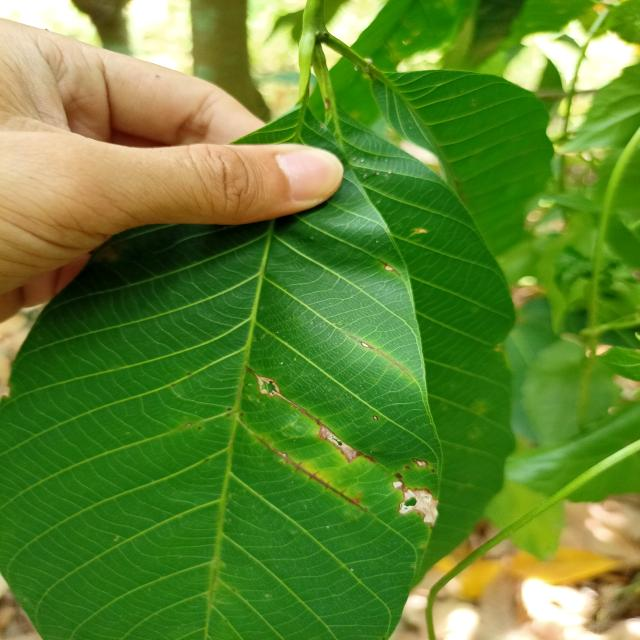Colletotrichum: (373, 416, 378, 420)
Corynespora: (255, 436, 367, 511), (248, 368, 324, 426), (348, 334, 408, 374), (378, 259, 400, 276)
Leaf-Blight: (399, 489, 438, 530), (318, 426, 360, 462), (393, 481, 402, 489)
